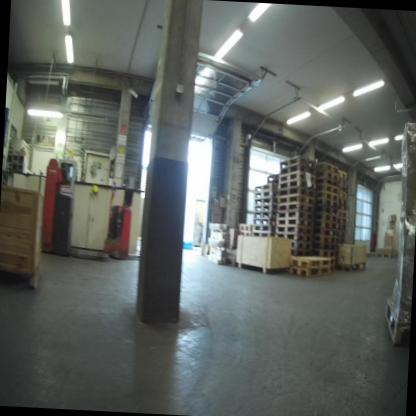pallet: (380, 296, 411, 349), (276, 170, 316, 189), (288, 253, 332, 269), (275, 186, 319, 202), (277, 178, 317, 195), (278, 153, 315, 171), (277, 161, 315, 178), (289, 264, 331, 279), (274, 193, 319, 206), (275, 200, 316, 213), (276, 223, 313, 236), (276, 208, 317, 219), (275, 216, 315, 227), (337, 261, 367, 275), (373, 248, 398, 263), (314, 160, 336, 174), (276, 233, 312, 241), (252, 222, 275, 233), (313, 175, 336, 186), (316, 188, 336, 200), (285, 241, 311, 250), (310, 249, 336, 258), (253, 188, 276, 198), (315, 203, 338, 213), (315, 219, 338, 229), (311, 242, 336, 251), (254, 194, 276, 204), (253, 201, 275, 211), (254, 208, 275, 218), (316, 168, 337, 178), (311, 234, 337, 242), (314, 211, 337, 220), (254, 182, 276, 191), (316, 182, 335, 192), (311, 228, 338, 235), (253, 216, 275, 224), (318, 198, 336, 207), (289, 250, 312, 257), (332, 190, 347, 200), (331, 168, 346, 178), (238, 224, 251, 233), (252, 232, 274, 237), (335, 210, 348, 218), (334, 204, 347, 211), (334, 197, 347, 204), (335, 185, 347, 192), (337, 217, 348, 224), (337, 178, 346, 186), (338, 231, 347, 238), (338, 224, 347, 230)
pallet_truck: (38, 141, 111, 261), (100, 174, 145, 261)
